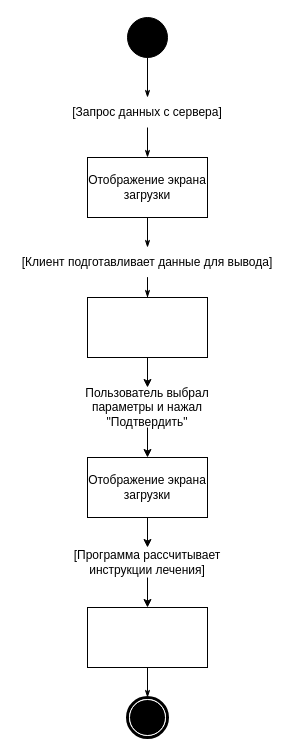
Some shapes in this 294 by 755 pixel diagram are drawn without their labels. Each missing label, with the box of its shape:
Отображение инструкций лечения: (86, 606, 208, 668)
Отображение экрана выбора параметров лечения: (86, 296, 208, 358)
